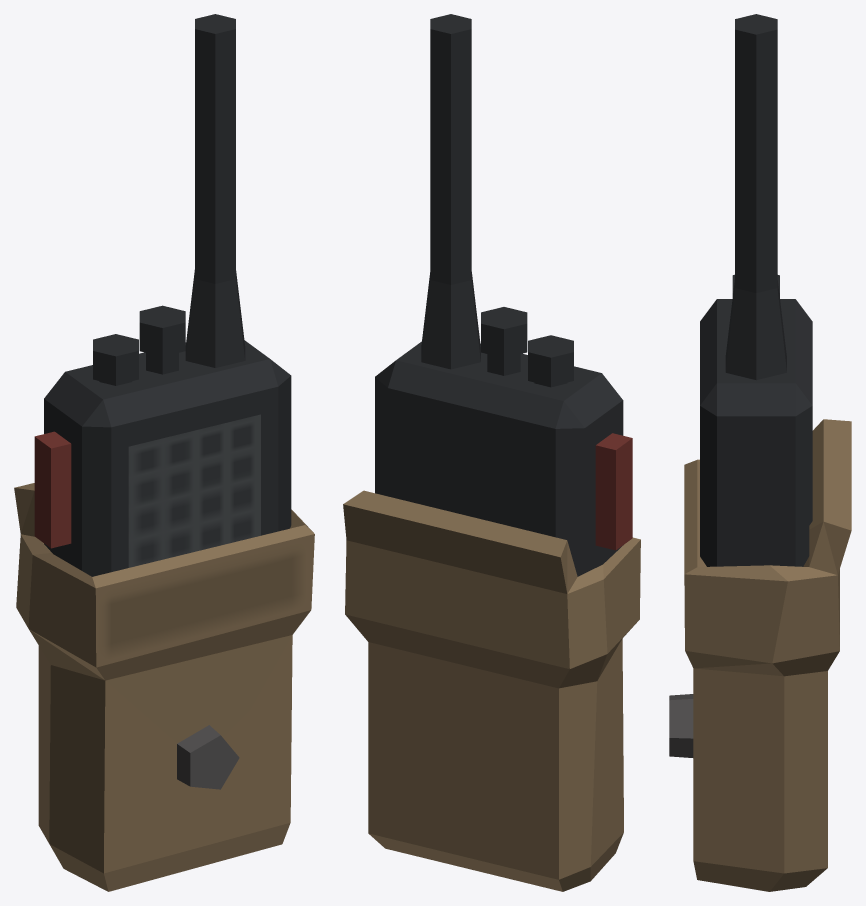
File: SM_Chr_Attach_Pouch_WalkieTalkie_01.fbx
3 views of the same model, side by side, from view 1: azimuth 30°, elevation 25°; view 2: azimuth 150°, elevation 25°; view 3: azimuth 270°, elevation 25° (orthographic). The views are drawn at different scales.
Visible parts, largest first — view 1: SM_Chr_Attach_Pouch_WalkieTalkie_01; view 2: SM_Chr_Attach_Pouch_WalkieTalkie_01; view 3: SM_Chr_Attach_Pouch_WalkieTalkie_01.
Part boxes in pixels (x1,y1,x2,y2): SM_Chr_Attach_Pouch_WalkieTalkie_01: (14,14,314,891); SM_Chr_Attach_Pouch_WalkieTalkie_01: (343,14,640,891); SM_Chr_Attach_Pouch_WalkieTalkie_01: (669,14,851,891).
Size of the model in its own units: 10.58 by 32.99 by 6.47.
